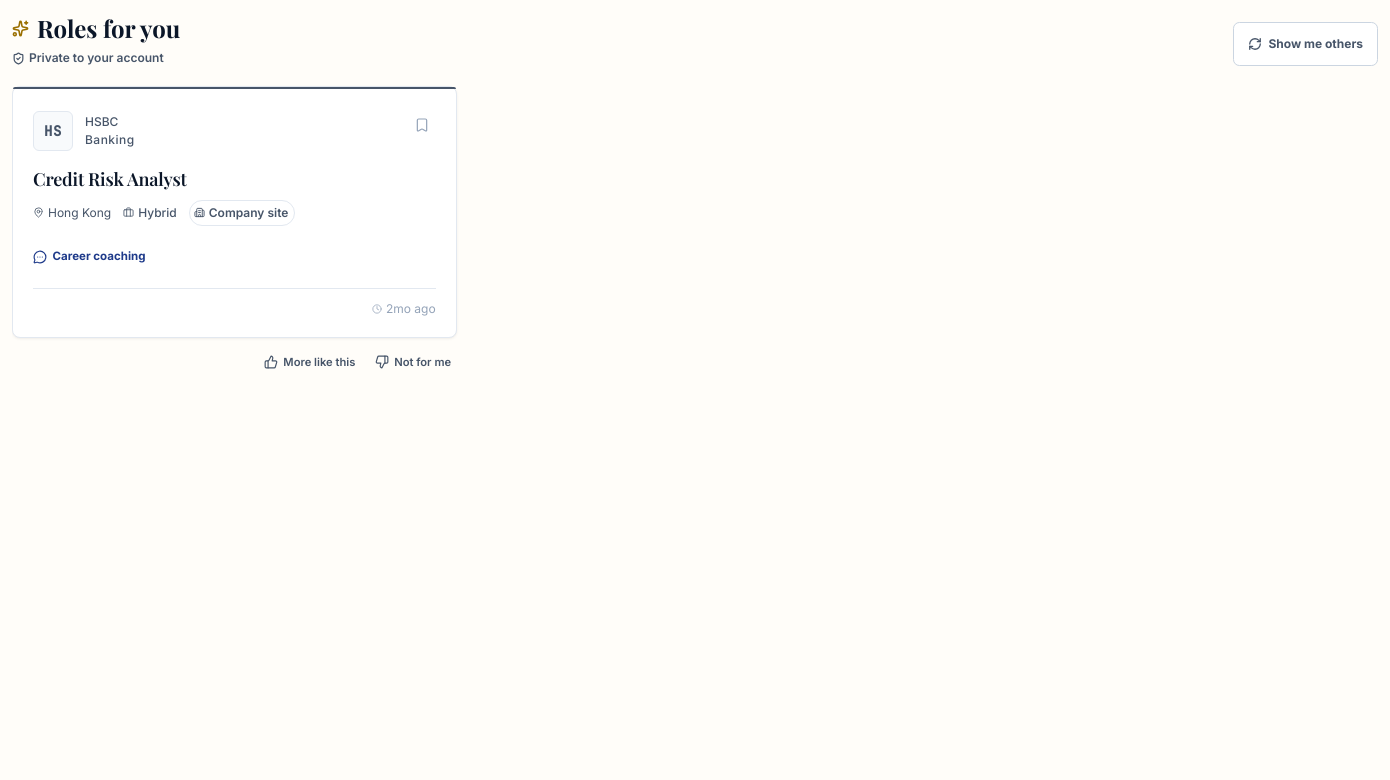
Test: Roles for you › lets the Seeker explicitly ask for more similar Roles
This screenshot has width=1390, height=780.
Step 1. Click the button "More like this" → (310, 362), box [260,340,358,384]
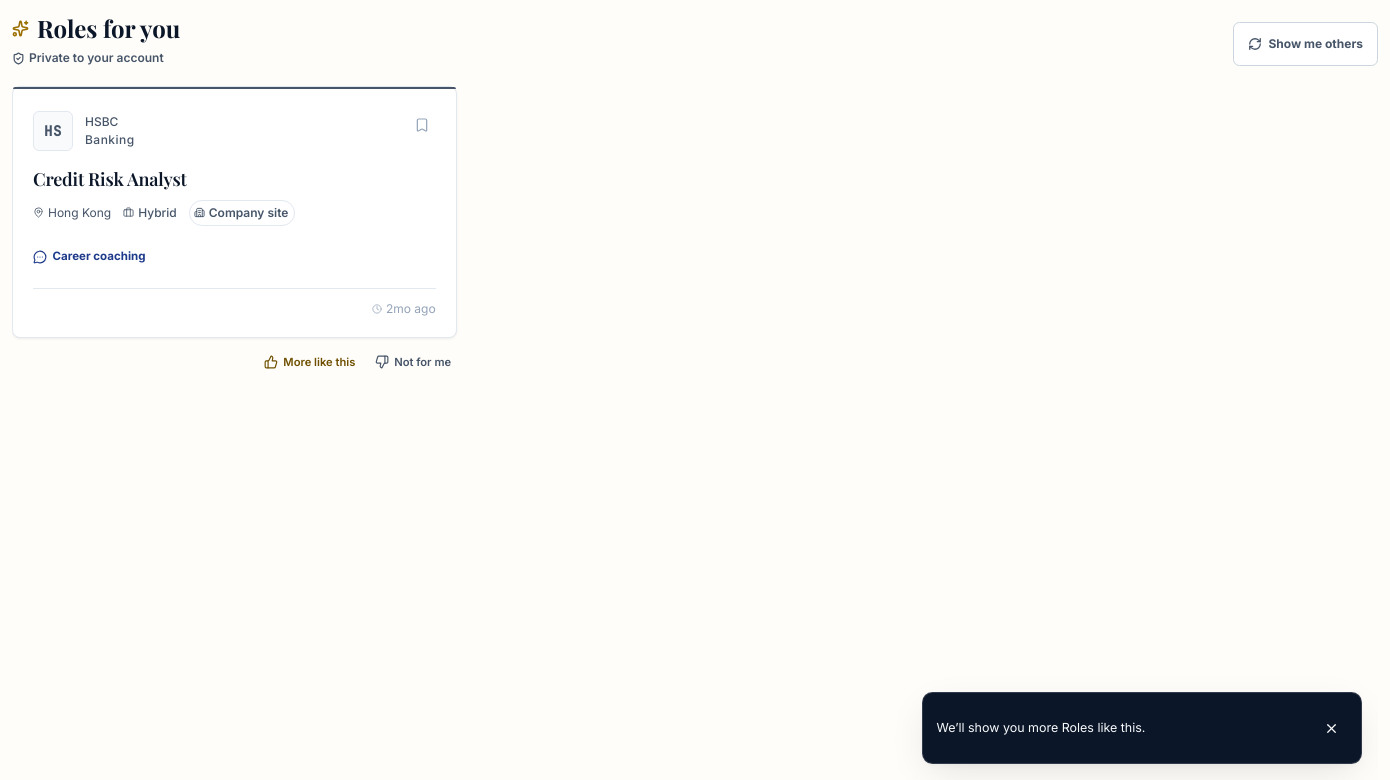
Check: the text "We’ll show you more Roles like this." is shown, box [937,720,1145,735]
